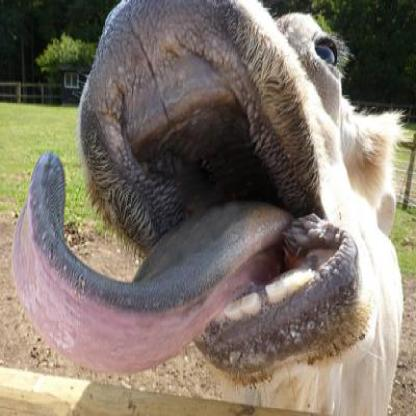lower: (260, 327, 284, 349)
mouth: (80, 0, 364, 381)
